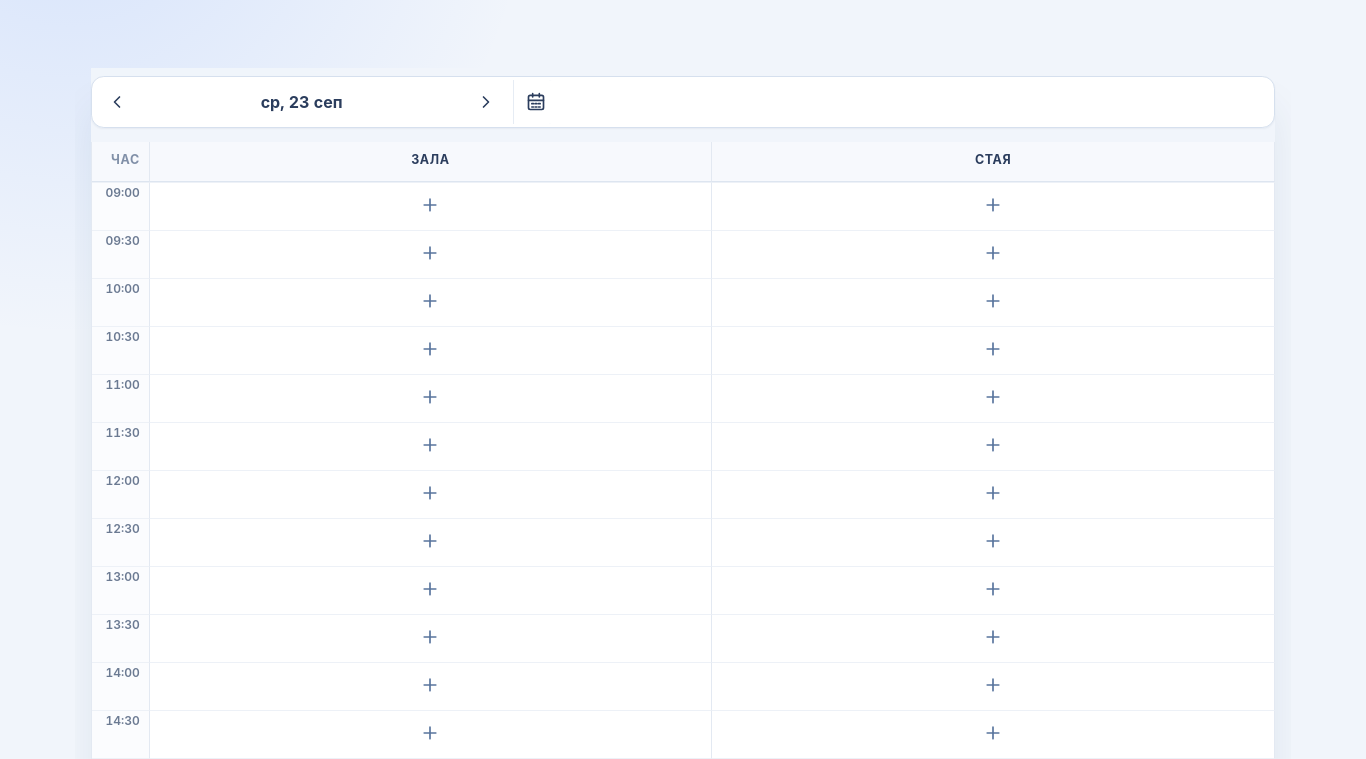
Test: Schedule week cache and views › aligns day headings with both room columns and exposes stable mode icons
Click the button named "Покажи седмица" at x=536, y=102, box [514,80,558,124]
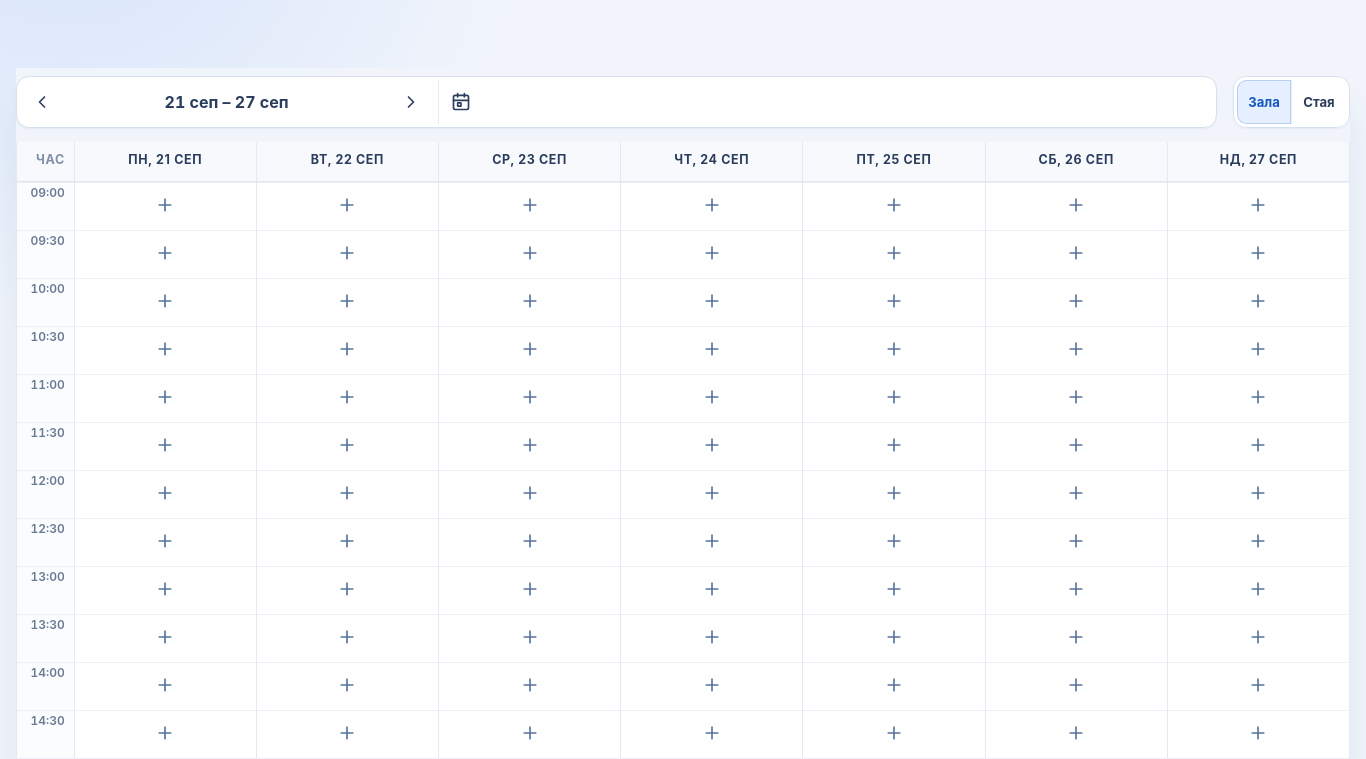
expect the heading "пн, 21 сеп" is shown: met, box [75,138,257,182]
